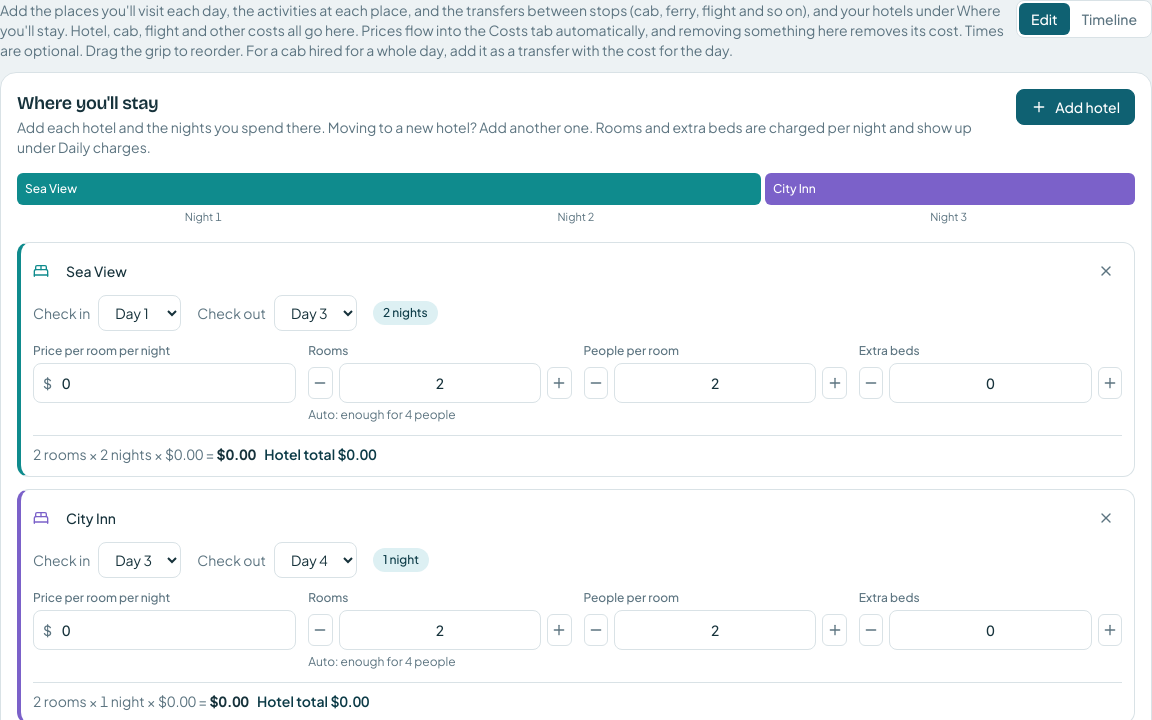
Test: Choosing a hotel as a stop or a transfer start › uses the hotel icon for a stop that is one of your hotels, in the list and on the timeline
Click the button "timeline" at (1109, 19), box x1=1070 y1=3 x2=1149 y2=35
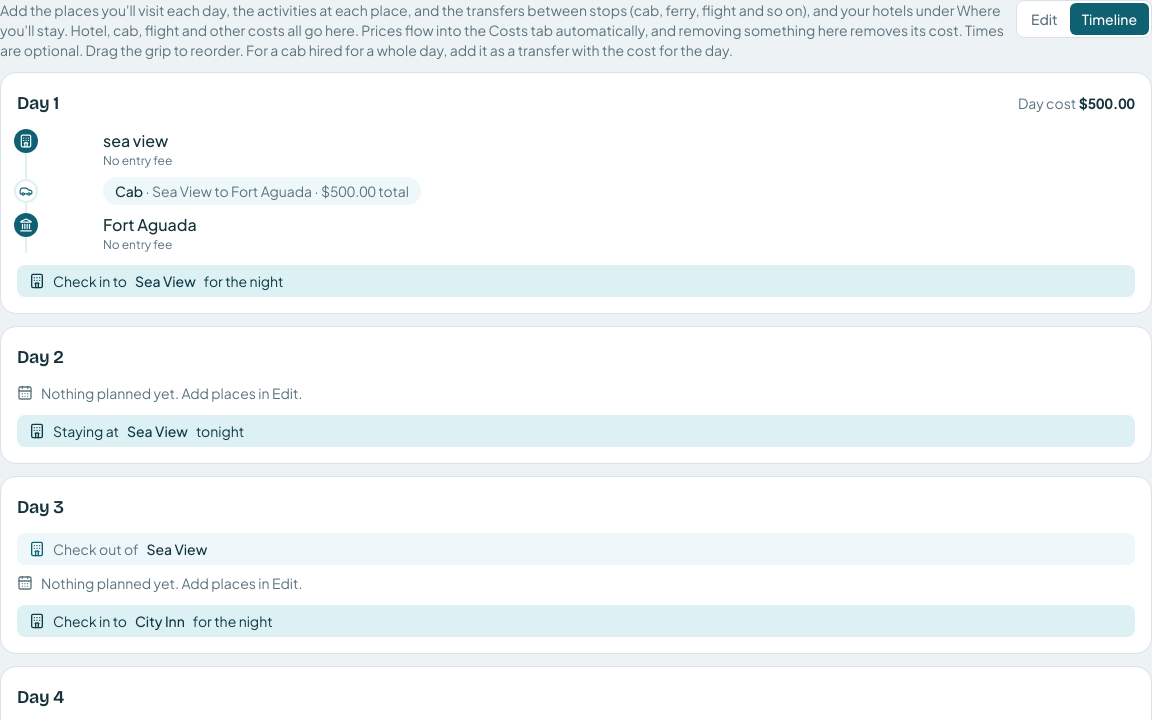
Now the 1st icon is shown, box x1=19 y1=134 x2=33 y2=148
Now the element with test id "transfer-1-1" shows "Cab · Sea View to Fort Aguada", box x1=103 y1=177 x2=421 y2=205
